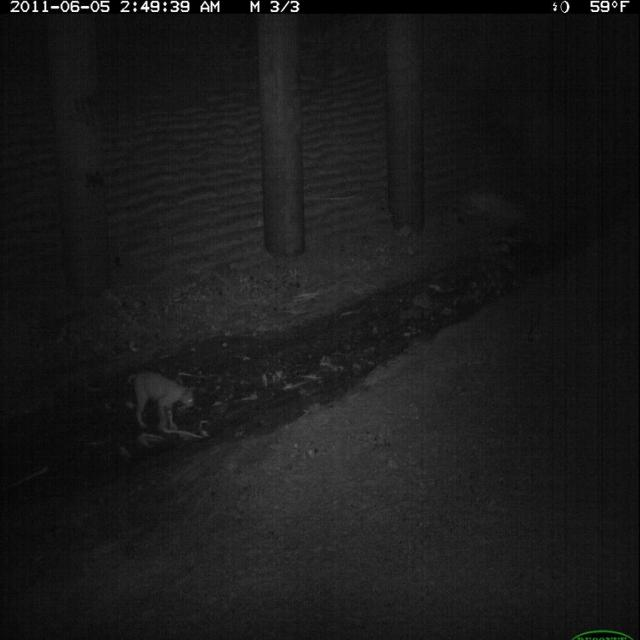bobcat: (130, 363, 198, 445)
